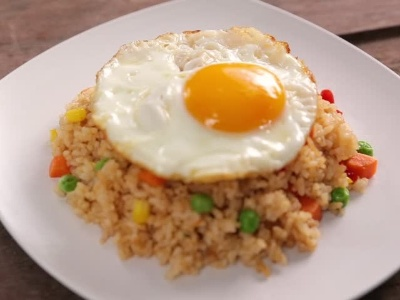nasigoreng: (53, 29, 368, 259)
